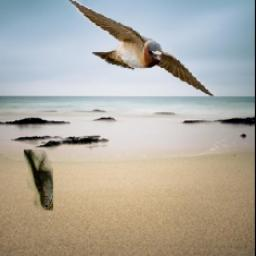Sparrow: (25, 150, 54, 211)
Swallow: (63, 0, 217, 96)
